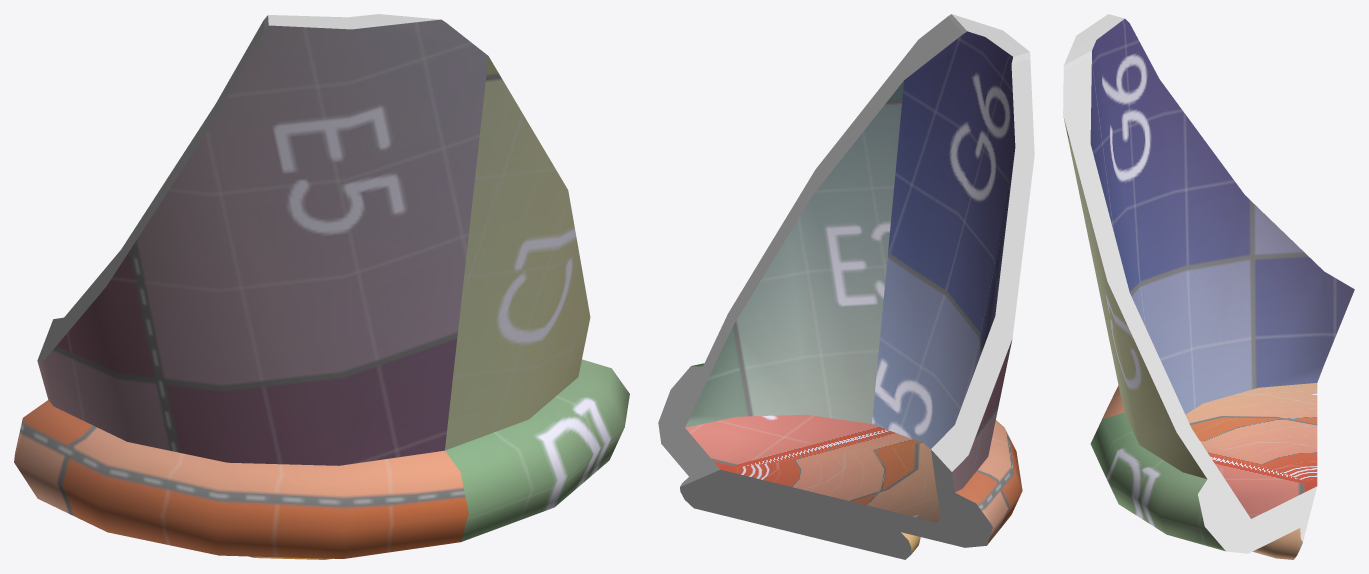
The model's file is MediumVase_SHAT_cell_005.fbx.
3 views of the same model, side by side, from view 1: azimuth 30°, elevation 25°; view 2: azimuth 150°, elevation 25°; view 3: azimuth 270°, elevation 25° (orthographic). The views are drawn at different scales.
Parts seen in each view (by area): view 1: MediumVase_SHAT_cell_005; view 2: MediumVase_SHAT_cell_005; view 3: MediumVase_SHAT_cell_005.
Part boxes in pixels (x1=…): MediumVase_SHAT_cell_005: x1=14, y1=14, x2=629, y2=559; MediumVase_SHAT_cell_005: x1=658, y1=14, x2=1034, y2=559; MediumVase_SHAT_cell_005: x1=1063, y1=14, x2=1354, y2=559.
Size of the model in its own units: 0.7044 by 0.78 by 0.4774.
Materials: 2 (1 with a texture image).
